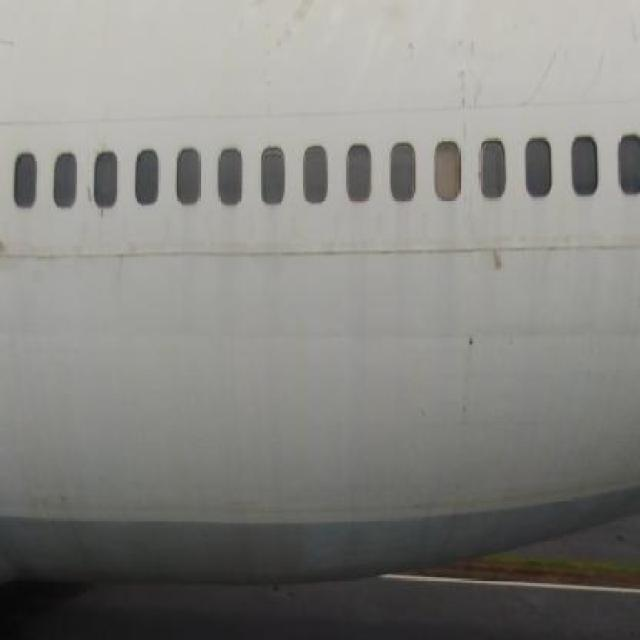Scartch: (246, 0, 338, 72), (527, 32, 608, 108), (449, 31, 486, 144), (474, 238, 518, 287), (462, 323, 488, 389)
